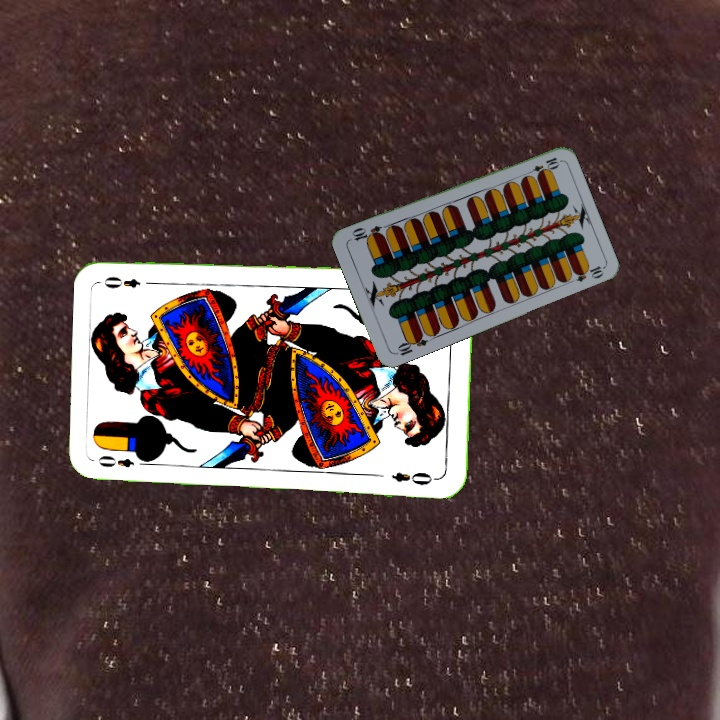E10: (391, 330, 430, 358), (522, 153, 562, 179)
EO: (94, 452, 152, 470)
